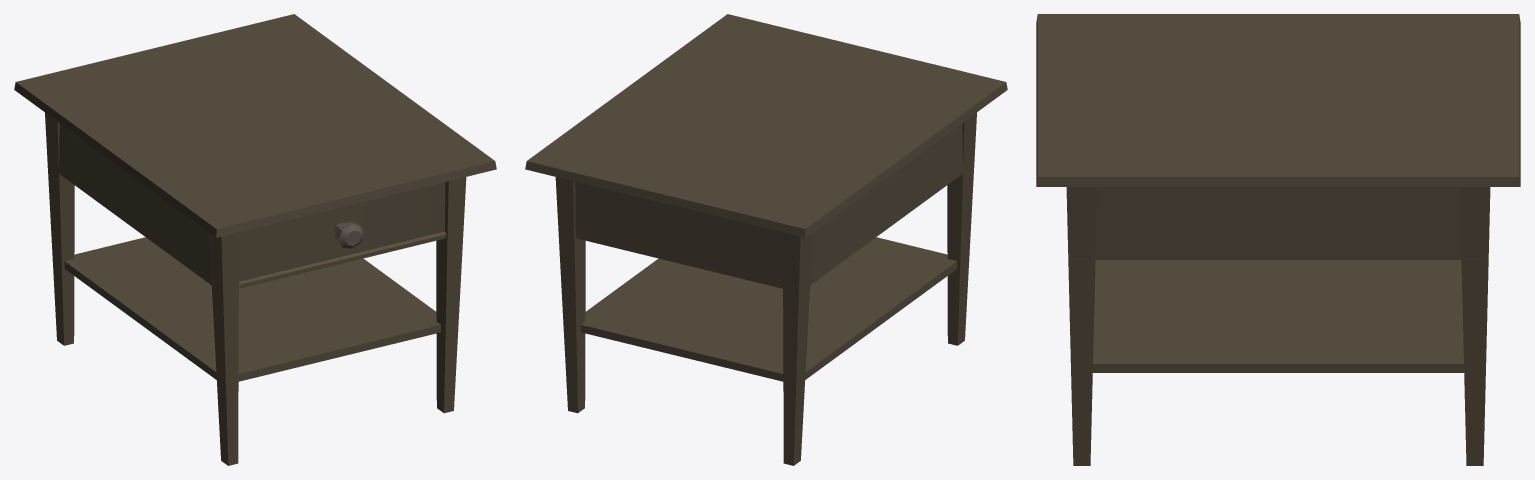
3 renders of one model, left to right at view 1: azimuth 30°, elevation 25°; view 2: azimuth 150°, elevation 25°; view 3: azimuth 270°, elevation 25°, orthographic. The views are drawn at different scales.
Parts seen in each view (by area): view 1: NightStand_2; view 2: NightStand_2; view 3: NightStand_2.
Part boxes in pixels (x1,y1,x2,y2): NightStand_2: (14, 14, 496, 465); NightStand_2: (525, 14, 1007, 465); NightStand_2: (1036, 14, 1520, 465).
Size of the model in its own units: 0.5223 by 0.4525 by 0.6523.
